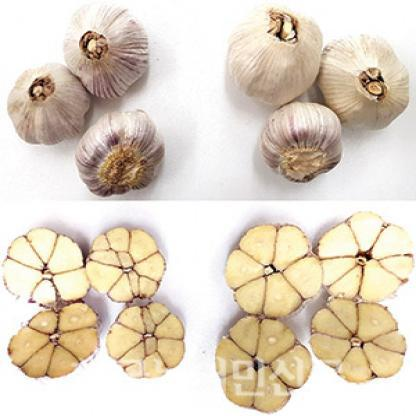garlic: (223, 214, 323, 316), (214, 316, 314, 414), (55, 0, 154, 96), (75, 100, 165, 198), (316, 216, 414, 299), (258, 92, 346, 183), (317, 292, 405, 380), (327, 39, 412, 129), (0, 223, 90, 307), (232, 10, 316, 100), (85, 216, 169, 303), (7, 61, 86, 148), (10, 306, 98, 378), (114, 309, 196, 384)
